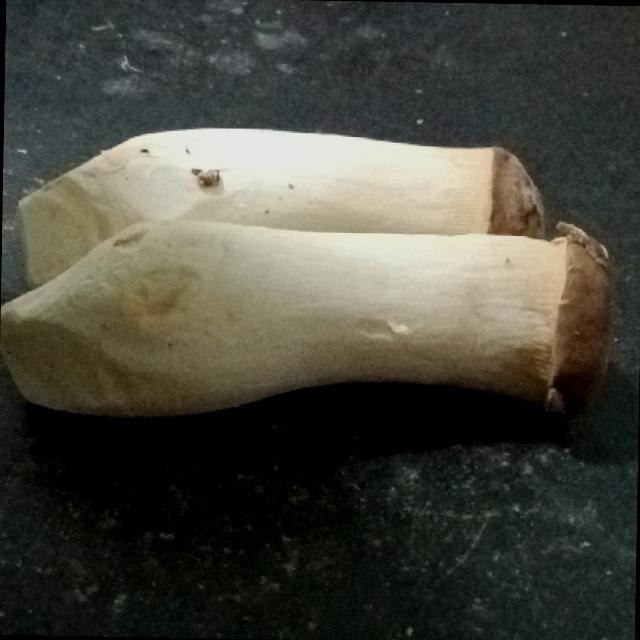Pleurotus eryngii: (0, 124, 626, 425)
